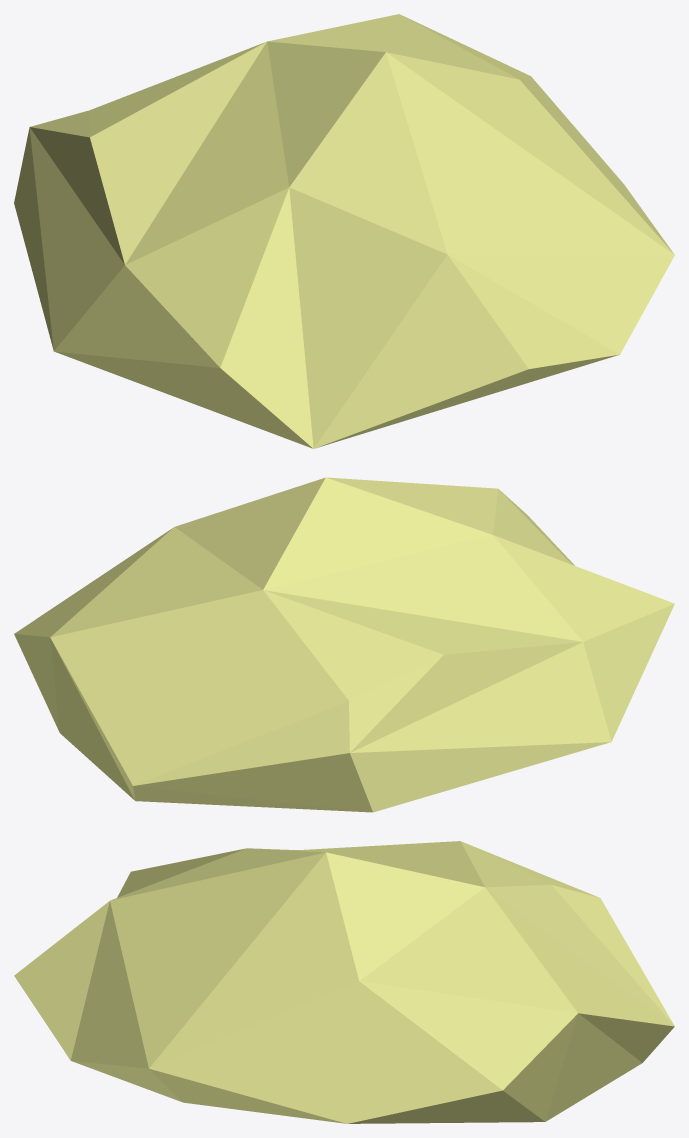
Rendered from SmallGemStone.fbx.
The picture shows the model from 3 angles, top to bottom: view 1: azimuth 30°, elevation 25°; view 2: azimuth 150°, elevation 25°; view 3: azimuth 270°, elevation 25°; orthographic projection. The views are drawn at different scales.
Parts seen in each view (by area): view 1: pCube1; view 2: pCube1; view 3: pCube1.
Part boxes in pixels (x1,y1,x2,y2): pCube1: [14, 14, 674, 448]; pCube1: [14, 477, 674, 812]; pCube1: [14, 841, 674, 1123].
Bounding box in the file's own units: 10.03 × 4.01 × 11.84.
